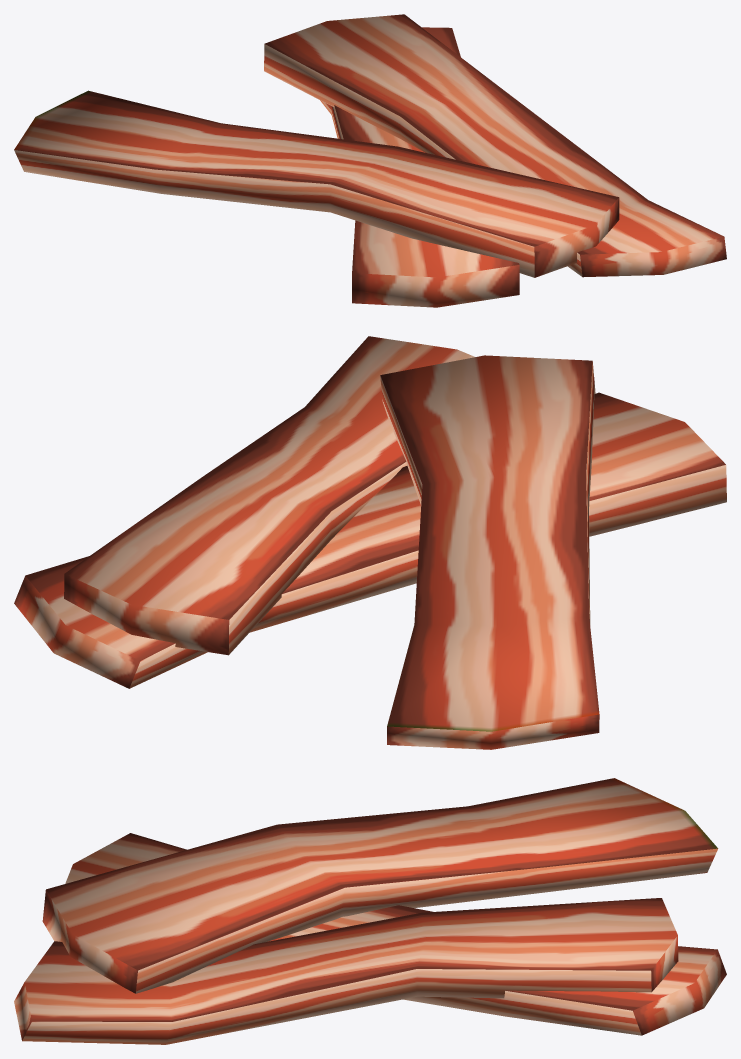
Rendered from SM_PROP_food_meat_10.FBX.
3 renders of one model, top to bottom at view 1: azimuth 30°, elevation 25°; view 2: azimuth 150°, elevation 25°; view 3: azimuth 270°, elevation 25°, orthographic. The views are drawn at different scales.
Parts seen in each view (by area): view 1: SM_PROP_food_meat_10; view 2: SM_PROP_food_meat_10; view 3: SM_PROP_food_meat_10.
Part boxes in pixels (<box>): SM_PROP_food_meat_10: <box>14,14,726,307</box>; SM_PROP_food_meat_10: <box>14,336,726,749</box>; SM_PROP_food_meat_10: <box>14,778,726,1044</box>.
Bounding box in the file's own units: 26.61 × 32.98 × 3.83.
